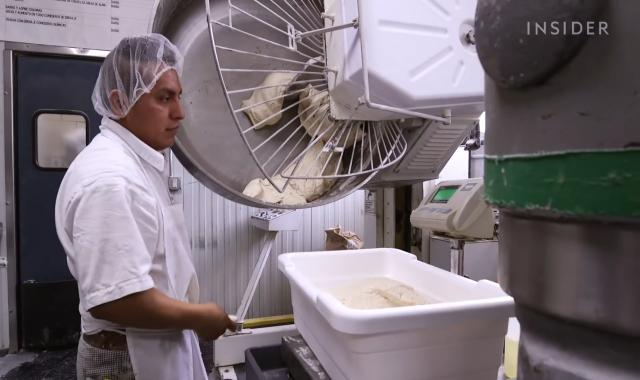hairnet: (92, 35, 184, 121)
